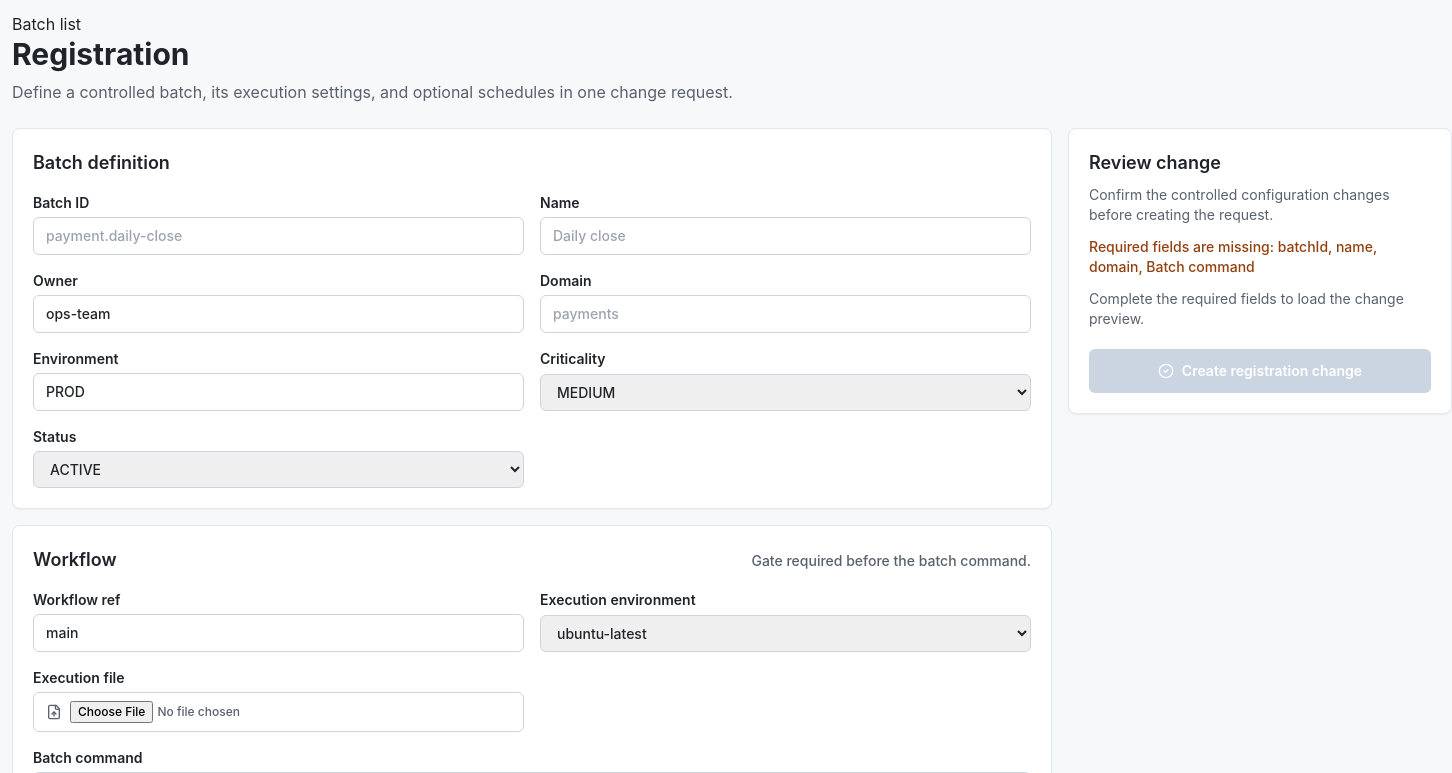
Scenario: BatchRegistrationPage › applies the authenticated owner default when the actual owner input loses focus
Clear the field labelled "Owner" at coordinates (278, 314), box [33,295,524,333]
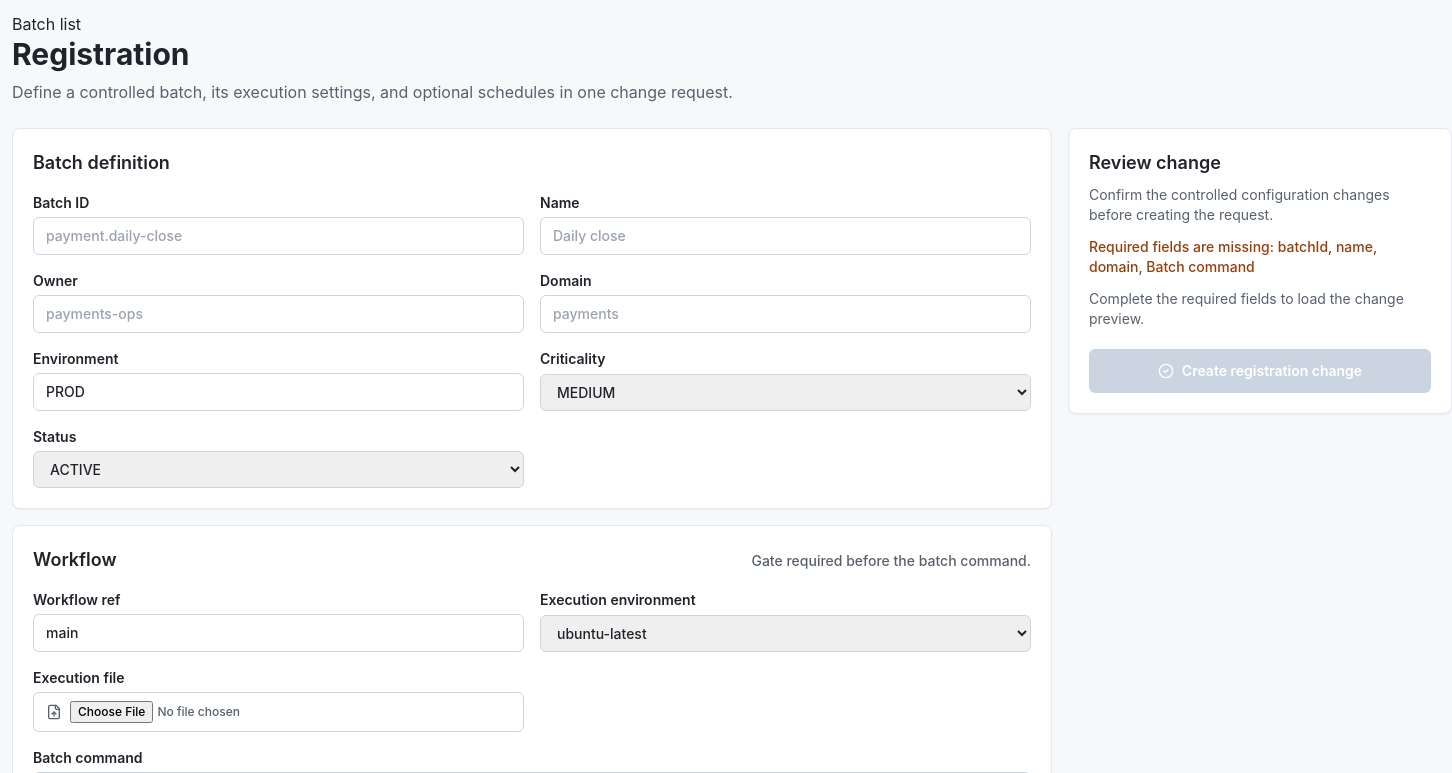
Leave the field labelled "Owner", box [33,295,524,333]
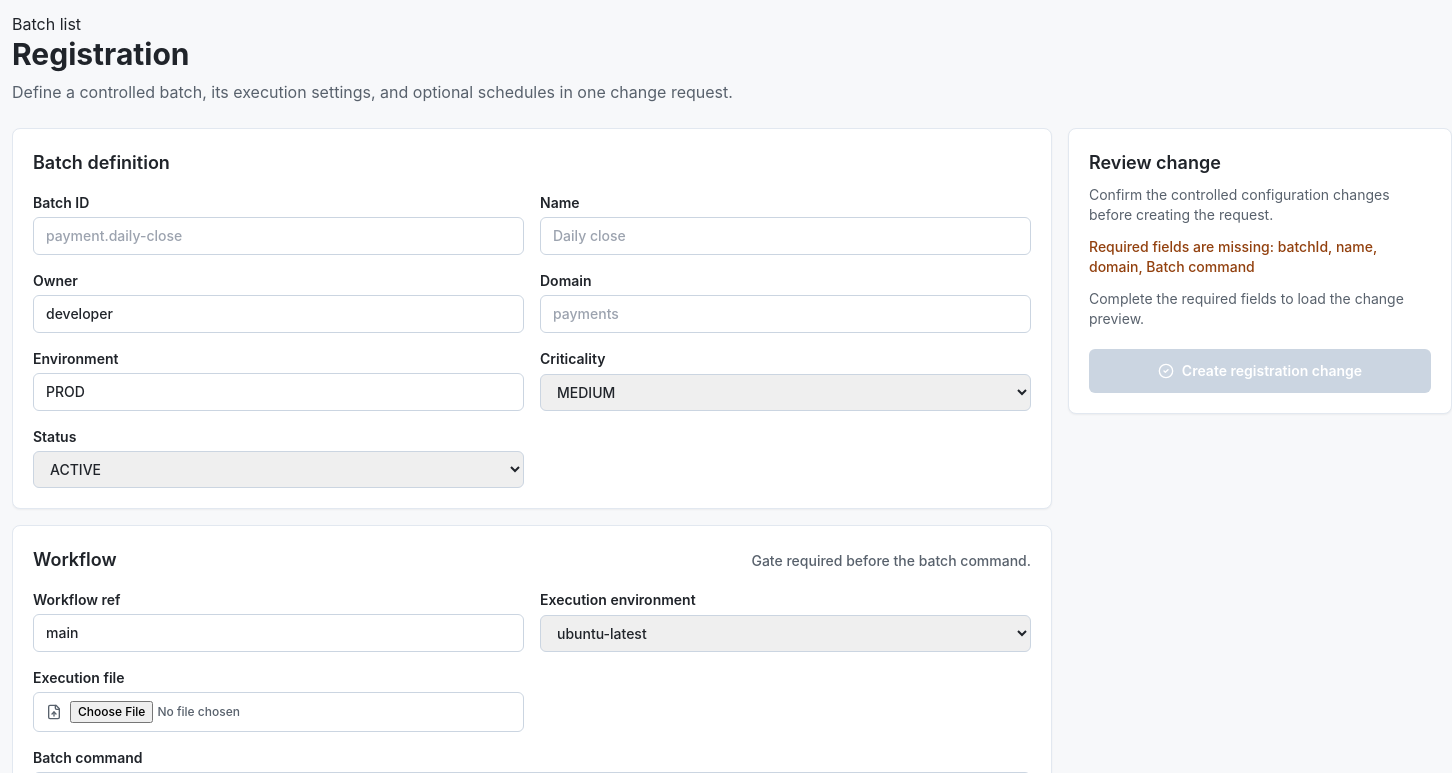
Expected: the field labelled "Owner" holds "developer", [33,295,524,333]
